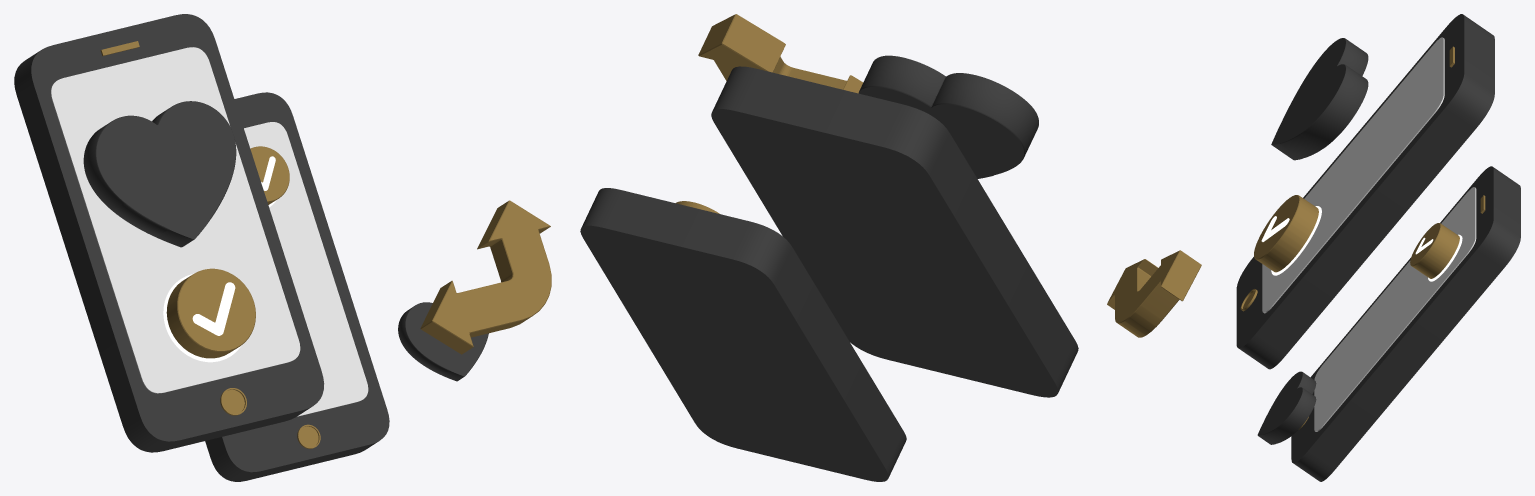
3 renders of one model, left to right at view 1: azimuth 30°, elevation 25°; view 2: azimuth 150°, elevation 25°; view 3: azimuth 270°, elevation 25°, orthographic. The views are drawn at different scales.
Parts seen in each view (by area): view 1: Rectangle011, cgaxis_models_74_03_081, Layer_U+0421_U+043B_U+043E_U+0439_149, Rectangle012, cgaxis_models_74_03_082, Line877526548, Cylinder034, Layer_U+0421_U+043B_U+043E_U+0439_148, Cylinder036, Layer_U+0421_U+043B_U+043E_U+0439_150, Cylinder037, Cylinder035; view 2: Rectangle011, Rectangle012, Layer_U+0421_U+043B_U+043E_U+0439_149, Line877526548; view 3: Rectangle011, Rectangle012, cgaxis_models_74_03_081, cgaxis_models_74_03_082, Layer_U+0421_U+043B_U+043E_U+0439_149, Line877526548, Cylinder034, Layer_U+0421_U+043B_U+043E_U+0439_148, Cylinder036.
Boxes of the visible parts, <box> form: Rectangle011: <box>14,14,324,452</box>; cgaxis_models_74_03_081: <box>51,47,300,393</box>; Layer_U+0421_U+043B_U+043E_U+0439_149: <box>83,101,236,247</box>; Rectangle012: <box>205,92,389,481</box>; cgaxis_models_74_03_082: <box>244,122,368,416</box>; Line877526548: <box>420,200,551,354</box>; Cylinder034: <box>166,268,255,358</box>; Layer_U+0421_U+043B_U+043E_U+0439_148: <box>398,302,488,381</box>; Cylinder036: <box>250,146,289,204</box>; Layer_U+0421_U+043B_U+043E_U+0439_150: <box>192,282,235,335</box>; Cylinder037: <box>163,273,241,362</box>; Cylinder035: <box>220,388,246,415</box>; Rectangle011: <box>711,66,1078,397</box>; Rectangle012: <box>580,188,906,481</box>; Layer_U+0421_U+043B_U+043E_U+0439_149: <box>858,55,1038,178</box>; Line877526548: <box>698,14,863,93</box>; Rectangle011: <box>1236,14,1494,369</box>; Rectangle012: <box>1291,166,1520,481</box>; cgaxis_models_74_03_081: <box>1262,37,1444,313</box>; cgaxis_models_74_03_082: <box>1314,187,1476,431</box>; Layer_U+0421_U+043B_U+043E_U+0439_149: <box>1271,38,1368,160</box>; Line877526548: <box>1107,250,1201,337</box>; Cylinder034: <box>1254,195,1318,272</box>; Layer_U+0421_U+043B_U+043E_U+0439_148: <box>1257,371,1316,444</box>; Cylinder036: <box>1410,223,1459,278</box>.
Size of the model in its own units: 213 by 221 by 229.
